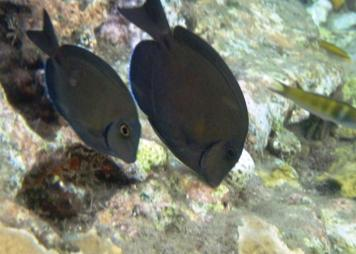Acanthuridae -Surgeonfishes-: (116, 0, 249, 188), (23, 6, 141, 164)
